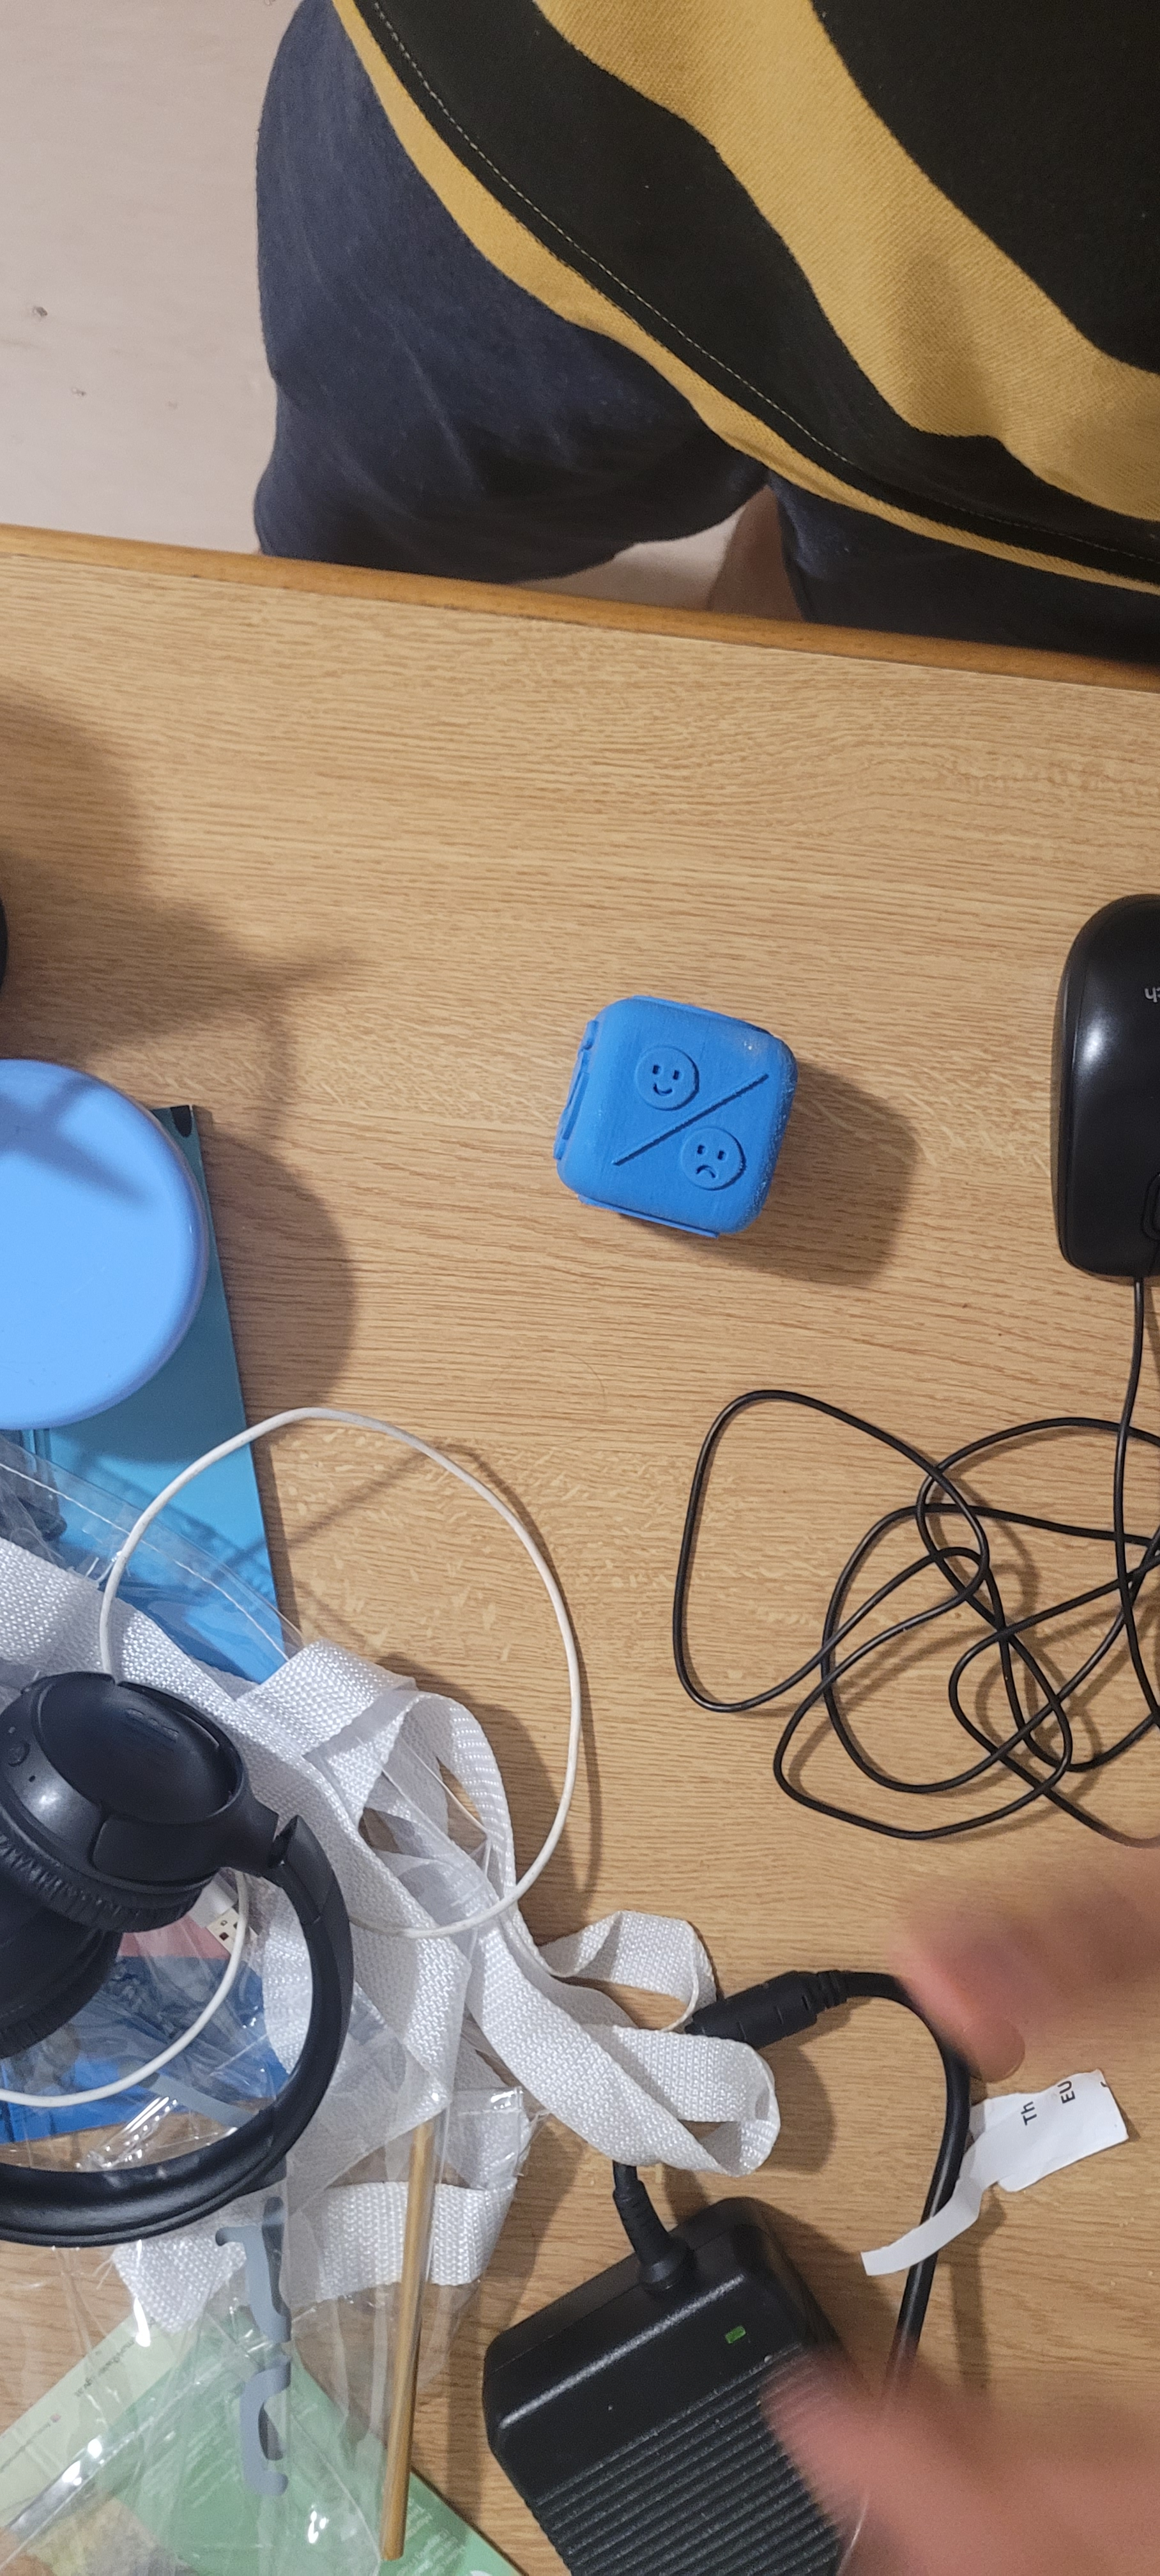Like/Dislike: (549, 1010, 797, 1216)
